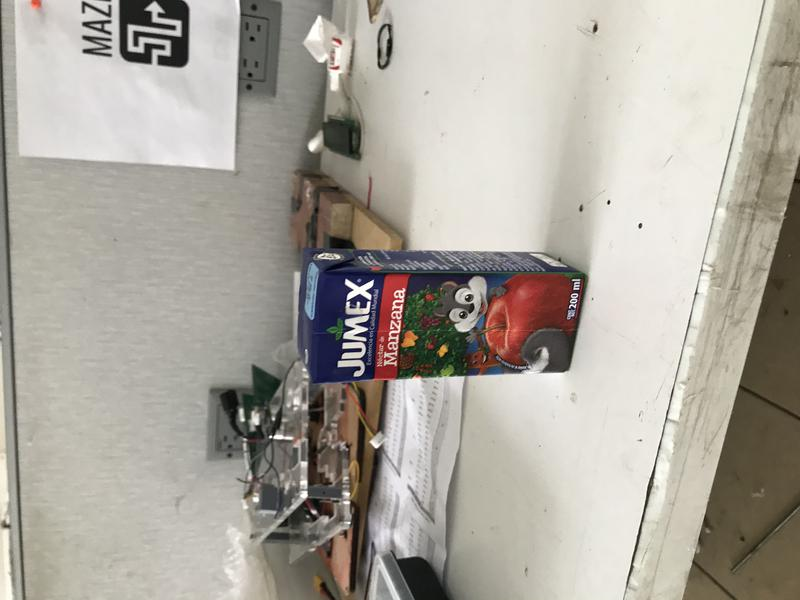jumex_cajita: (297, 246, 587, 384)
